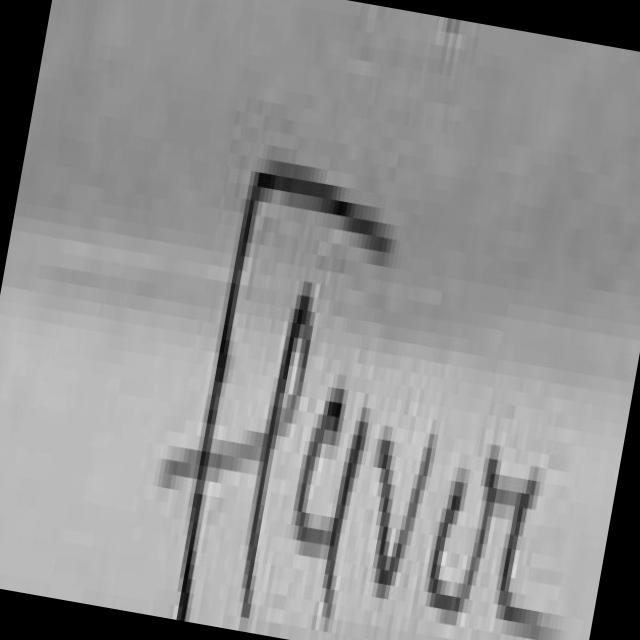F: (178, 163, 390, 622)
e: (429, 480, 465, 619)
l: (238, 295, 311, 611)
r: (448, 456, 543, 637)
u: (296, 388, 368, 617)
v: (377, 434, 437, 598)
